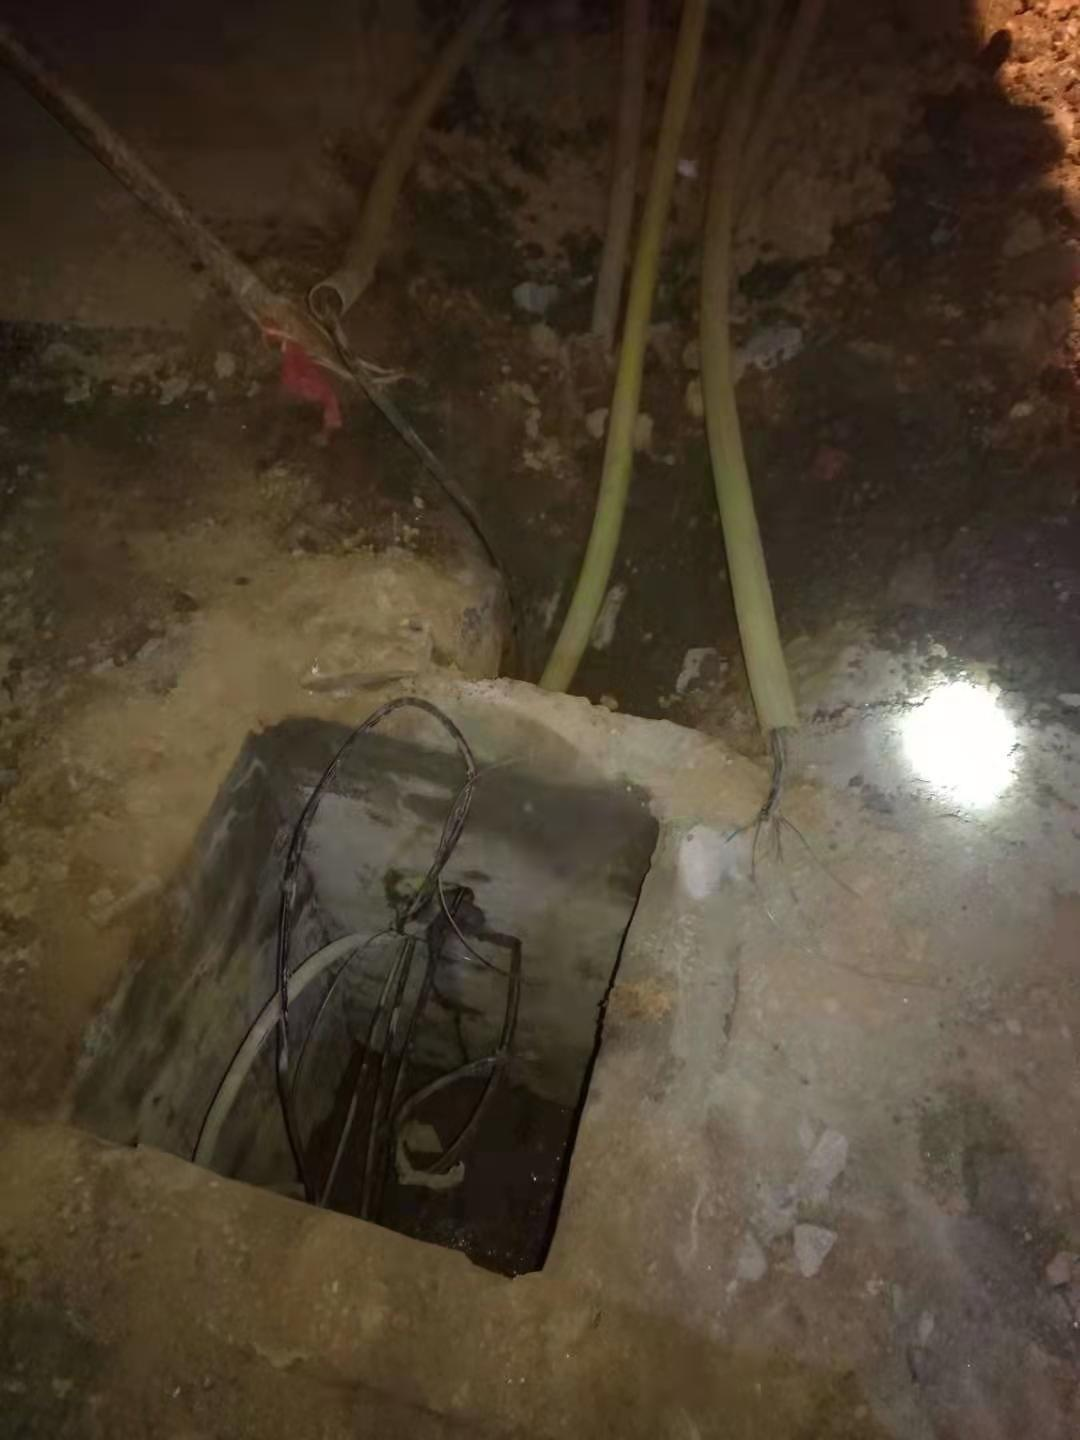well: (0, 0, 1080, 798)
